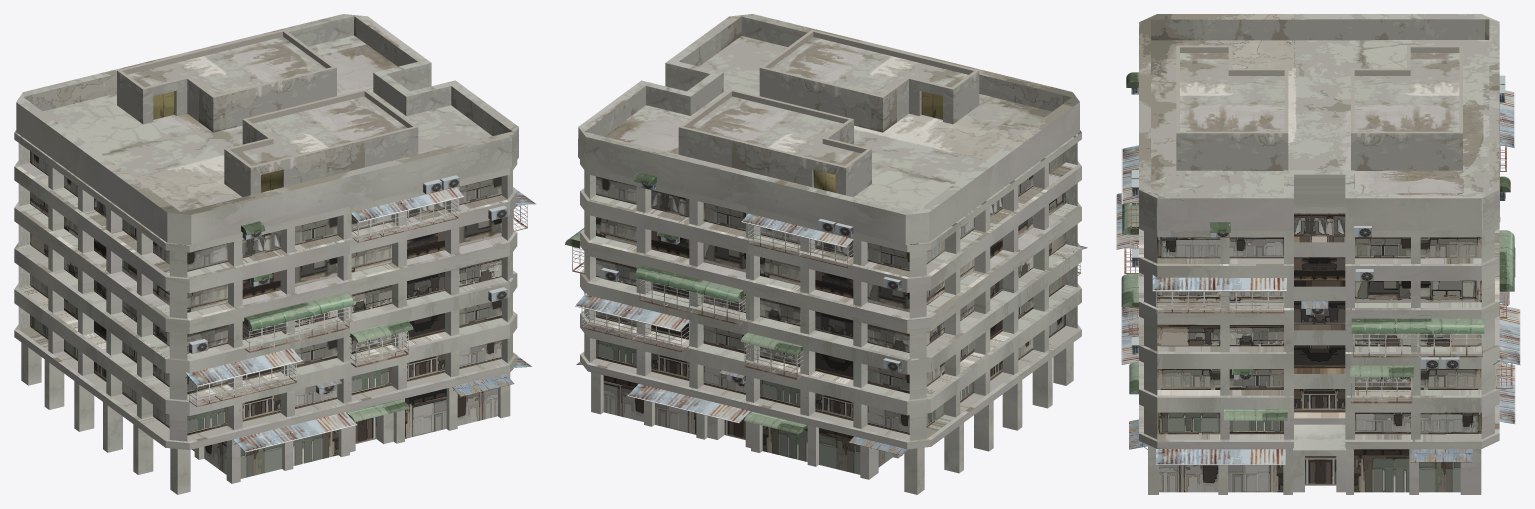
Rendered from edificio_chino.obj.
The picture shows the model from 3 angles, left to right: view 1: azimuth 30°, elevation 25°; view 2: azimuth 150°, elevation 25°; view 3: azimuth 270°, elevation 25°; orthographic projection. The views are drawn at different scales.
Visible parts, largest first — view 1: apartment_02_fine_concrete_fine_0, apartment_02_fine_build_01_0, polySurface3488_concrete_02.1_0, apartment_02_fine_concrete_02_0, polySurface3488_concrete_fine.1_0, polySurface3490_concrete_02.3_0, polySurface3489_concrete_02.2_0, pPlane201_2_rooftop_01.27_0, group26_2_rooftop_01.23_0, pPlane197_2_rooftop_01.22_0, pPlane200_2_rooftop_01.18_0, pCube116_2_rooftop_01.24_0 (+2 smaller); view 2: apartment_02_fine_concrete_fine_0, apartment_02_fine_build_01_0, polySurface3488_concrete_02.1_0, apartment_02_fine_concrete_02_0, polySurface3488_concrete_fine.1_0, polySurface3489_concrete_02.2_0, polySurface3490_concrete_02.3_0, pPlane201_rooftop_01.12_0, group26_rooftop_01.8_0, pPlane197_rooftop_01.7_0, pPlane200_rooftop_01.3_0, pCube116_rooftop_01.9_0 (+1 smaller); view 3: polySurface3488_concrete_02.1_0, apartment_02_fine_concrete_fine_0, apartment_02_fine_build_01_0, polySurface3489_concrete_02.2_0, polySurface3490_concrete_02.3_0, polySurface3488_concrete_fine.1_0, apartment_02_fine_concrete_02_0, pPlane197_3_rooftop_01.37_0, group26_3_rooftop_01.38_0, pPlane200_3_rooftop_01.33_0, pCube116_3_rooftop_01.39_0, pPlane201_rooftop_01.12_0 (+10 smaller).
Boxes of the visible parts, <box> form: apartment_02_fine_concrete_fine_0: <box>14,130,517,494</box>; apartment_02_fine_build_01_0: <box>30,151,501,478</box>; polySurface3488_concrete_02.1_0: <box>16,14,518,214</box>; apartment_02_fine_concrete_02_0: <box>14,134,516,443</box>; polySurface3488_concrete_fine.1_0: <box>16,63,518,244</box>; polySurface3490_concrete_02.3_0: <box>117,29,336,132</box>; polySurface3489_concrete_02.2_0: <box>224,89,418,197</box>; pPlane201_2_rooftop_01.27_0: <box>185,348,302,406</box>; group26_2_rooftop_01.23_0: <box>243,292,353,352</box>; pPlane197_2_rooftop_01.22_0: <box>351,187,464,242</box>; pPlane200_2_rooftop_01.18_0: <box>233,412,356,452</box>; pCube116_2_rooftop_01.24_0: <box>349,319,413,367</box>; apartment_02_fine_concrete_fine_0: <box>580,130,1081,494</box>; apartment_02_fine_build_01_0: <box>596,151,1065,474</box>; polySurface3488_concrete_02.1_0: <box>578,14,1079,214</box>; apartment_02_fine_concrete_02_0: <box>580,134,1081,442</box>; polySurface3488_concrete_fine.1_0: <box>578,63,1079,244</box>; polySurface3489_concrete_02.2_0: <box>759,30,979,132</box>; polySurface3490_concrete_02.3_0: <box>678,89,871,197</box>; pPlane201_rooftop_01.12_0: <box>575,293,691,352</box>; group26_rooftop_01.8_0: <box>635,265,745,324</box>; pPlane197_rooftop_01.7_0: <box>741,213,853,268</box>; pPlane200_rooftop_01.3_0: <box>627,384,750,423</box>; pCube116_rooftop_01.9_0: <box>740,333,803,379</box>; polySurface3488_concrete_02.1_0: <box>1139,14,1499,198</box>; apartment_02_fine_concrete_fine_0: <box>1139,207,1499,494</box>; apartment_02_fine_build_01_0: <box>1157,213,1481,492</box>; polySurface3489_concrete_02.2_0: <box>1176,45,1288,170</box>; polySurface3490_concrete_02.3_0: <box>1351,45,1462,170</box>; polySurface3488_concrete_fine.1_0: <box>1139,104,1500,230</box>; apartment_02_fine_concrete_02_0: <box>1139,229,1499,441</box>; pPlane197_3_rooftop_01.37_0: <box>1152,275,1286,313</box>; group26_3_rooftop_01.38_0: <box>1351,318,1484,357</box>; pPlane200_3_rooftop_01.33_0: <box>1156,448,1285,465</box>; pCube116_3_rooftop_01.39_0: <box>1350,365,1414,403</box>; pPlane201_rooftop_01.12_0: <box>1493,305,1520,388</box>.
Bounding box in the file's own units: 169 × 130 × 149.
